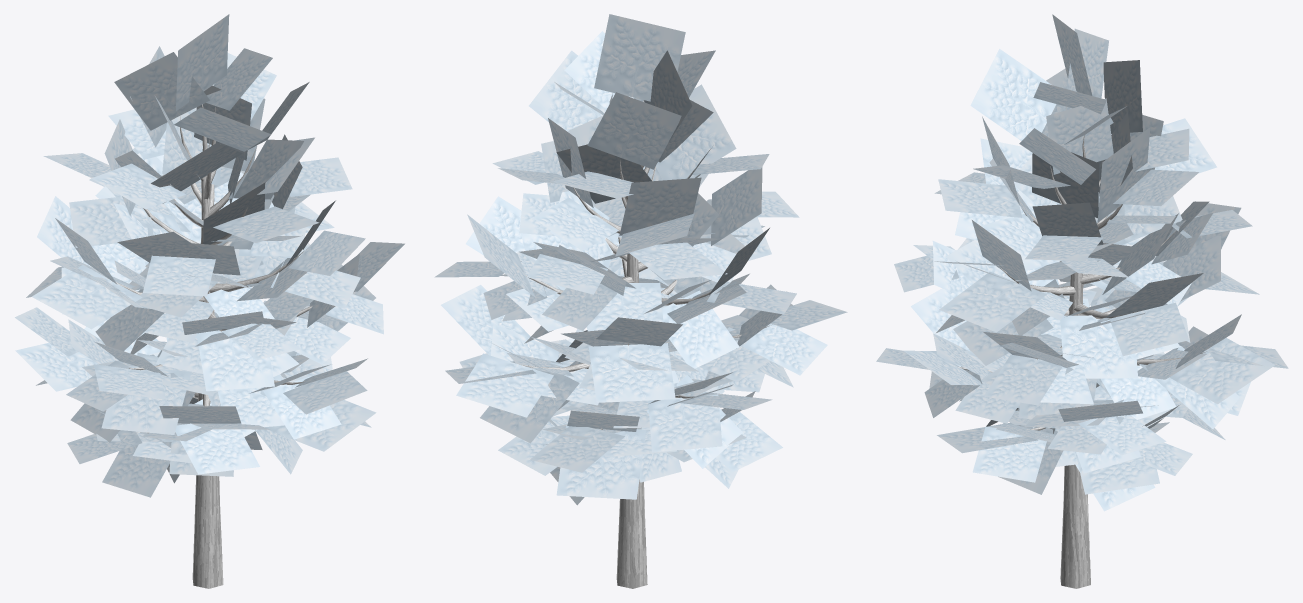
Rendered from Nature_tree02c.fbx.
The picture shows the model from 3 angles, left to right: view 1: azimuth 30°, elevation 25°; view 2: azimuth 150°, elevation 25°; view 3: azimuth 270°, elevation 25°; orthographic projection.
Visible parts, largest first — view 1: leaves, leaves1, tree; view 2: leaves, leaves1, tree; view 3: leaves, leaves1, tree.
Boxes of the visible parts, <box> form: leaves: <box>15,14,404,497</box>; leaves1: <box>15,20,402,495</box>; tree: <box>116,104,312,588</box>; leaves: <box>435,14,847,505</box>; leaves1: <box>436,18,844,502</box>; tree: <box>520,159,771,588</box>; leaves: <box>876,14,1288,511</box>; leaves1: <box>877,15,1283,510</box>; tree: <box>957,107,1206,588</box>.
Size of the model in its own units: 2.88 by 4.7 by 3.14.
